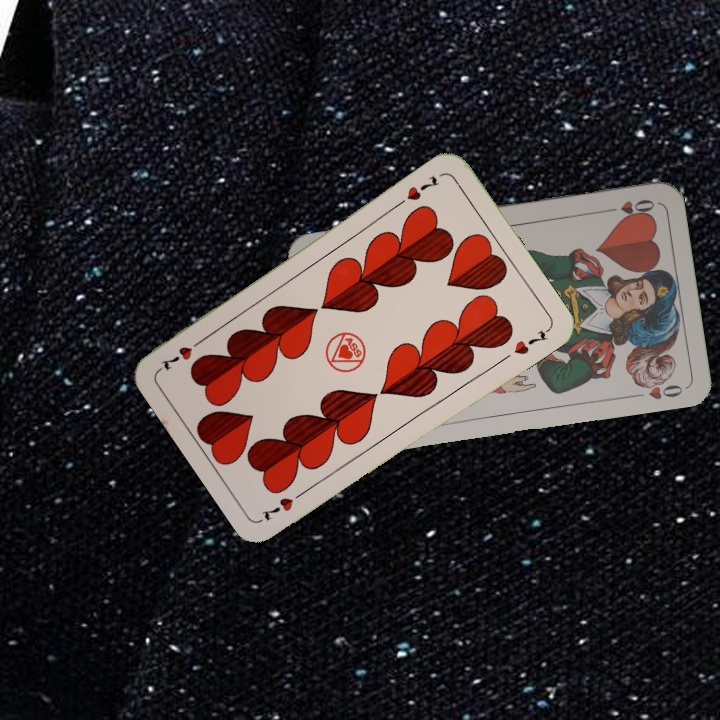H7: (257, 485, 310, 523), (393, 171, 442, 209)
HO: (599, 195, 658, 220)
